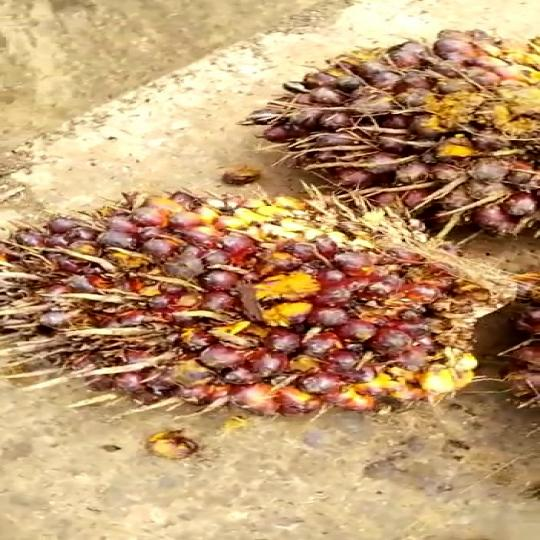masak: (0, 200, 520, 413), (234, 32, 540, 218)
